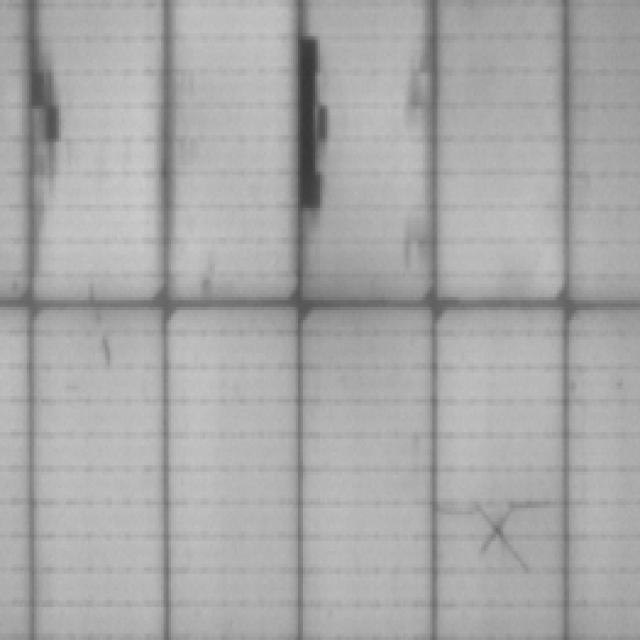BLACK SPOT: (288, 31, 333, 235), (24, 27, 60, 161)
CRACK: (472, 493, 538, 581)
